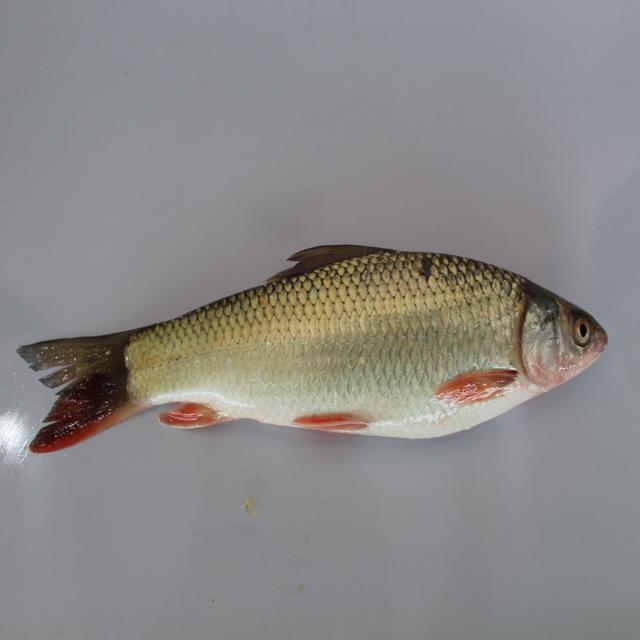Mori: (35, 240, 598, 480)
